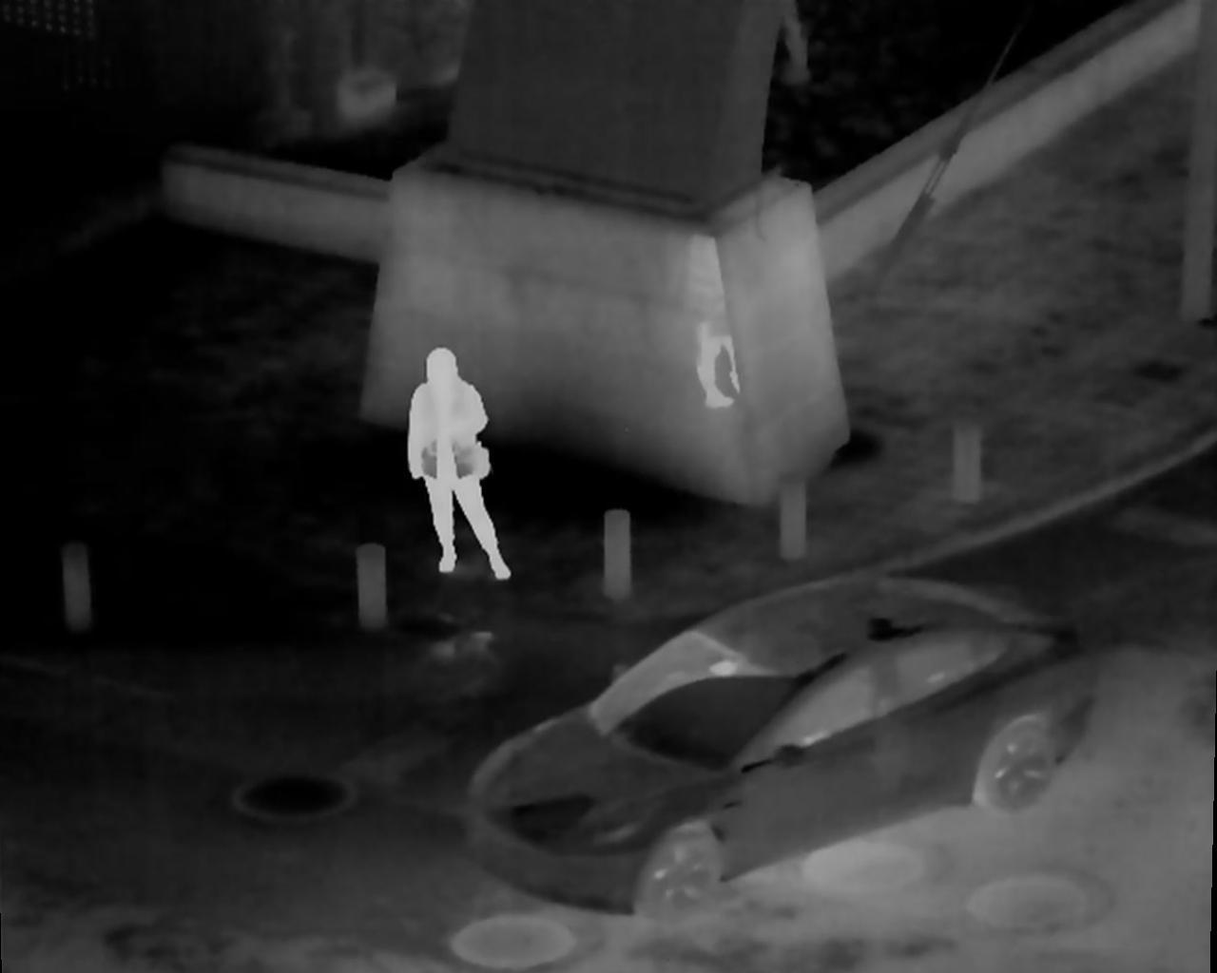person: (396, 345, 515, 582)
